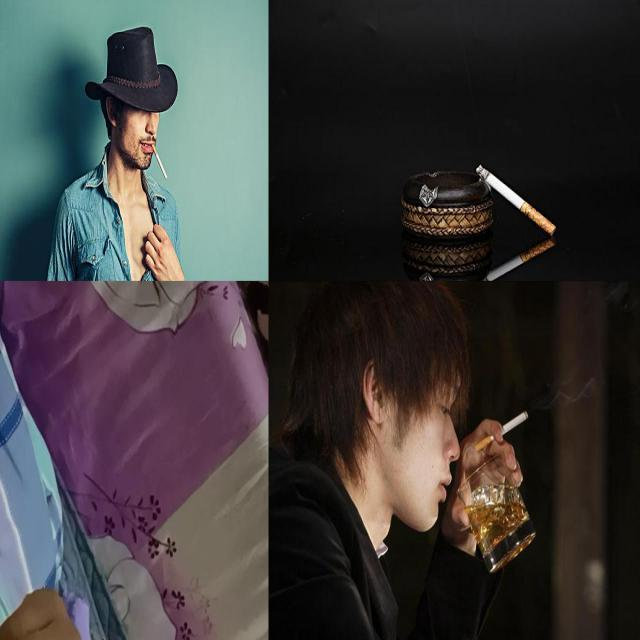cigarette: (476, 165, 556, 235), (482, 238, 556, 280), (474, 411, 530, 454), (151, 143, 168, 181)
